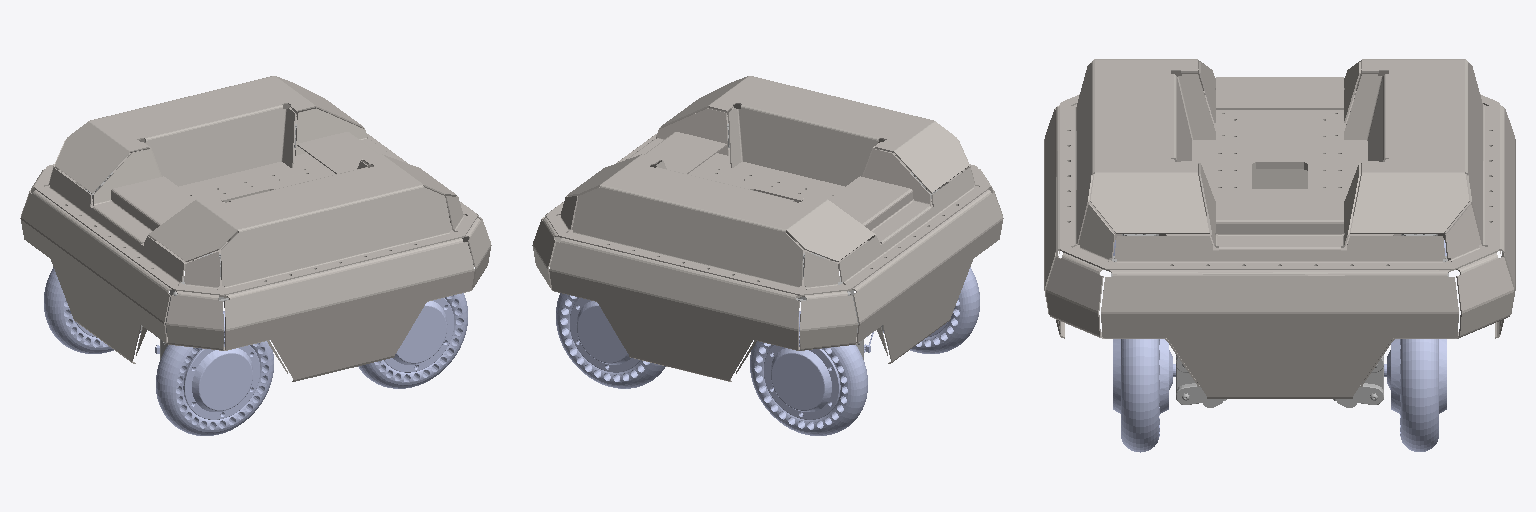
URDF robot description (chassis):
<?xml version="1.0" encoding="utf-8"?>
<!-- This URDF was automatically created by SolidWorks to URDF Exporter! Originally created by Stephen Brawner (brawner@gmail.com) 
     Commit Version: 1.6.0-4-g7f85cfe  Build Version: 1.6.7995.38578
     For more information, please see http://wiki.ros.org/sw_urdf_exporter -->
<!-- Updated for ROS 2 compatibility -->
<robot
  name="chassis">
  <link
    name="base_link">
    <inertial>
      <origin
        xyz="2.17423649959731E-06 3.49956307181624E-07 0.00559120283693081"
        rpy="0 0 0" />
      <mass
        value="29.6003381325808" />
      <inertia
        ixx="0.898685064148105"
        ixy="-1.56543470288466E-06"
        ixz="-2.89106718419985E-06"
        iyy="0.784208053023207"
        iyz="-4.68515980699763E-07"
        izz="1.64424540756128" />
    </inertial>
    <visual>
      <origin
        xyz="0 0 0"
        rpy="0 0 0" />
      <geometry>
        <mesh
          filename="package://chassis/meshes/base_link.STL" />
      </geometry>
      <material
        name="">
        <color
          rgba="0.776470588235294 0.756862745098039 0.737254901960784 1" />
      </material>
    </visual>
    <collision>
      <origin
        xyz="0 0 0"
        rpy="0 0 0" />
      <geometry>
        <mesh
          filename="package://chassis/meshes/base_link.STL" />
      </geometry>
    </collision>
  </link>
  <link
    name="right_front_steer_link">
    <inertial>
      <origin
        xyz="-1.1873E-05 0.050353 -0.050638"
        rpy="0 0 0" />
      <mass
        value="2.2993" />
      <inertia
        ixx="0.0039526"
        ixy="-9.0106E-09"
        ixz="1.0608E-07"
        iyy="0.0033072"
        iyz="0.0011272"
        izz="0.0020942" />
    </inertial>
    <visual>
      <origin
        xyz="0 0 0"
        rpy="0 0 0" />
      <geometry>
        <mesh
          filename="package://chassis/meshes/right_front_steer_link.STL" />
      </geometry>
      <material
        name="">
        <color
          rgba="0.75294 0.75294 0.75294 1" />
      </material>
    </visual>
    <collision>
      <origin
        xyz="0 0 0"
        rpy="0 0 0" />
      <geometry>
        <mesh
          filename="package://chassis/meshes/right_front_steer_link.STL" />
      </geometry>
    </collision>
  </link>
  <joint
    name="right_front_steer"
    type="continuous">
    <origin
      xyz="0.175 -0.175 -0.05"
      rpy="0 0 0" />
    <parent
      link="base_link" />
    <child
      link="right_front_steer_link" />
    <axis
      xyz="0 0 -1" />
    <limit
      lower="-3.14"
      upper="3.14"
      effort="100"
      velocity="0.1" />
    <dynamics
      damping="0.1"
      friction="1" />
    <safety_controller
      soft_upper_limit="3.14"
      soft_lower_limit="-3.14"
      k_position="1"
      k_velocity="1" />
  </joint>
  <link
    name="right_front_wheel_link">
    <inertial>
      <origin
        xyz="-3.3487E-07 0.00092793 1.78E-05"
        rpy="0 0 0" />
      <mass
        value="1.3917" />
      <inertia
        ixx="0.0032357"
        ixy="-5.8567E-09"
        ixz="-6.0045E-09"
        iyy="0.0061157"
        iyz="5.6708E-08"
        izz="0.0032355" />
    </inertial>
    <visual>
      <origin
        xyz="0 0 0"
        rpy="0 0 0" />
      <geometry>
        <mesh
          filename="package://chassis/meshes/right_front_wheel_link.STL" />
      </geometry>
      <material
        name="">
        <color
          rgba="0.79216 0.81961 0.93333 1" />
      </material>
    </visual>
    <collision>
      <origin
        xyz="0 0 0"
        rpy="0 0 0" />
      <geometry>
        <mesh
          filename="package://chassis/meshes/right_front_wheel_link.STL" />
      </geometry>
    </collision>
  </link>
  <joint
    name="right_front_wheel"
    type="continuous">
    <origin
      xyz="0 0 -0.1225"
      rpy="0 0 0" />
    <parent
      link="right_front_steer_link" />
    <child
      link="right_front_wheel_link" />
    <axis
      xyz="0 1 0" />
    <limit
      lower="-3.14"
      upper="3.14"
      effort="100"
      velocity="0.1" />
    <dynamics
      damping="0.1"
      friction="1" />
    <safety_controller
      soft_upper_limit="3.14"
      soft_lower_limit="-3.14"
      k_position="1"
      k_velocity="1" />
  </joint>
  <link
    name="left_front_steer_link">
    <inertial>
      <origin
        xyz="1.1873E-05 -0.050353 -0.065638"
        rpy="0 0 0" />
      <mass
        value="2.2993" />
      <inertia
        ixx="0.0039526"
        ixy="-9.0106E-09"
        ixz="-1.0608E-07"
        iyy="0.0033072"
        iyz="-0.0011272"
        izz="0.0020942" />
    </inertial>
    <visual>
      <origin
        xyz="0 0 0"
        rpy="0 0 0" />
      <geometry>
        <mesh
          filename="package://chassis/meshes/left_front_steer_link.STL" />
      </geometry>
      <material
        name="">
        <color
          rgba="0.75294 0.75294 0.75294 1" />
      </material>
    </visual>
    <collision>
      <origin
        xyz="0 0 0"
        rpy="0 0 0" />
      <geometry>
        <mesh
          filename="package://chassis/meshes/left_front_steer_link.STL" />
      </geometry>
    </collision>
  </link>
  <joint
    name="left_front_steer"
    type="continuous">
    <origin
      xyz="0.175 0.175 -0.035"
      rpy="0 0 0" />
    <parent
      link="base_link" />
    <child
      link="left_front_steer_link" />
    <axis
      xyz="0 0 -1" />
    <limit
      lower="-3.14"
      upper="3.14"
      effort="100"
      velocity="0.1" />
    <dynamics
      damping="0.1"
      friction="1" />
    <safety_controller
      soft_upper_limit="3.14"
      soft_lower_limit="-3.14"
      k_position="1"
      k_velocity="1" />
  </joint>
  <link
    name="left_front_wheel_link">
    <inertial>
      <origin
        xyz="-3.34870328078107E-07 -0.000927930709167551 -0.0150177998139255"
        rpy="0 0 0" />
      <mass
        value="1.39166913646861" />
      <inertia
        ixx="0.00323569332202727"
        ixy="5.85669910111863E-09"
        ixz="6.00449778845646E-09"
        iyy="0.00611570302439275"
        iyz="5.67079360643792E-08"
        izz="0.00323545332599927" />
    </inertial>
    <visual>
      <origin
        xyz="0 0 0"
        rpy="0 0 0" />
      <geometry>
        <mesh
          filename="package://chassis/meshes/left_front_wheel_link.STL" />
      </geometry>
      <material
        name="">
        <color
          rgba="0.792156862745098 0.819607843137255 0.933333333333333 1" />
      </material>
    </visual>
    <collision>
      <origin
        xyz="0 0 0"
        rpy="0 0 0" />
      <geometry>
        <mesh
          filename="package://chassis/meshes/left_front_wheel_link.STL" />
      </geometry>
    </collision>
  </link>
  <joint
    name="left_front_wheel"
    type="continuous">
    <origin
      xyz="0 0 -0.1225"
      rpy="0 0 0" />
    <parent
      link="left_front_steer_link" />
    <child
      link="left_front_wheel_link" />
    <axis
      xyz="0 -1 0" />
    <limit
      lower="-3.14"
      upper="3.14"
      effort="100"
      velocity="0.1" />
    <dynamics
      damping="0.1"
      friction="1" />
    <safety_controller
      soft_upper_limit="3.14"
      soft_lower_limit="-3.14"
      k_position="1"
      k_velocity="1" />
  </joint>
  <link
    name="right_rear_steer_link">
    <inertial>
      <origin
        xyz="-1.1873E-05 0.050353 -0.065638"
        rpy="0 0 0" />
      <mass
        value="2.2993" />
      <inertia
        ixx="0.0039526"
        ixy="-9.0106E-09"
        ixz="1.0608E-07"
        iyy="0.0033072"
        iyz="0.0011272"
        izz="0.0020942" />
    </inertial>
    <visual>
      <origin
        xyz="0 0 0"
        rpy="0 0 0" />
      <geometry>
        <mesh
          filename="package://chassis/meshes/right_rear_steer_link.STL" />
      </geometry>
      <material
        name="">
        <color
          rgba="0.75294 0.75294 0.75294 1" />
      </material>
    </visual>
    <collision>
      <origin
        xyz="0 0 0"
        rpy="0 0 0" />
      <geometry>
        <mesh
          filename="package://chassis/meshes/right_rear_steer_link.STL" />
      </geometry>
    </collision>
  </link>
  <joint
    name="right_rear_steer"
    type="continuous">
    <origin
      xyz="-0.175 -0.175 -0.035"
      rpy="0 0 0" />
    <parent
      link="base_link" />
    <child
      link="right_rear_steer_link" />
    <axis
      xyz="0 0 -1" />
    <limit
      lower="-3.14"
      upper="3.14"
      effort="100"
      velocity="0.1" />
    <dynamics
      damping="0.1"
      friction="1" />
    <safety_controller
      soft_upper_limit="3.14"
      soft_lower_limit="-3.14"
      k_position="1"
      k_velocity="1" />
  </joint>
  <link
    name="right_rear_wheel_link">
    <inertial>
      <origin
        xyz="3.34870328161374E-07 0.00092793070916794 -0.0150177998139254"
        rpy="0 0 0" />
      <mass
        value="1.39166913646861" />
      <inertia
        ixx="0.00323569332202727"
        ixy="5.85669910109146E-09"
        ixz="-6.00449778845156E-09"
        iyy="0.00611570302439275"
        iyz="-5.67079360040527E-08"
        izz="0.00323545332599927" />
    </inertial>
    <visual>
      <origin
        xyz="0 0 0"
        rpy="0 0 0" />
      <geometry>
        <mesh
          filename="package://chassis/meshes/right_rear_wheel_link.STL" />
      </geometry>
      <material
        name="">
        <color
          rgba="0.792156862745098 0.819607843137255 0.933333333333333 1" />
      </material>
    </visual>
    <collision>
      <origin
        xyz="0 0 0"
        rpy="0 0 0" />
      <geometry>
        <mesh
          filename="package://chassis/meshes/right_rear_wheel_link.STL" />
      </geometry>
    </collision>
  </link>
  <joint
    name="right_rear_wheel"
    type="continuous">
    <origin
      xyz="0 0 -0.1225"
      rpy="0 0 0" />
    <parent
      link="right_rear_steer_link" />
    <child
      link="right_rear_wheel_link" />
    <axis
      xyz="0 1 0" />
    <limit
      lower="-3.14"
      upper="3.14"
      effort="100"
      velocity="0.1" />
    <dynamics
      damping="0.1"
      friction="1" />
    <safety_controller
      soft_upper_limit="3.14"
      soft_lower_limit="-3.14"
      k_position="1"
      k_velocity="1" />
  </joint>
  <link
    name="left_rear_steer_link">
    <inertial>
      <origin
        xyz="1.1873E-05 -0.050353 -0.065638"
        rpy="0 0 0" />
      <mass
        value="2.2993" />
      <inertia
        ixx="0.0039526"
        ixy="-9.0106E-09"
        ixz="-1.0608E-07"
        iyy="0.0033072"
        iyz="-0.0011272"
        izz="0.0020942" />
    </inertial>
    <visual>
      <origin
        xyz="0 0 0"
        rpy="0 0 0" />
      <geometry>
        <mesh
          filename="package://chassis/meshes/left_rear_steer_link.STL" />
      </geometry>
      <material
        name="">
        <color
          rgba="0.75294 0.75294 0.75294 1" />
      </material>
    </visual>
    <collision>
      <origin
        xyz="0 0 0"
        rpy="0 0 0" />
      <geometry>
        <mesh
          filename="package://chassis/meshes/left_rear_steer_link.STL" />
      </geometry>
    </collision>
  </link>
  <joint
    name="left_rear_steer"
    type="continuous">
    <origin
      xyz="-0.175 0.175 -0.035"
      rpy="0 0 0" />
    <parent
      link="base_link" />
    <child
      link="left_rear_steer_link" />
    <axis
      xyz="0 0 -1" />
    <limit
      lower="-3.14"
      upper="3.14"
      effort="100"
      velocity="0.1" />
    <dynamics
      damping="0.1"
      friction="1" />
    <safety_controller
      soft_upper_limit="3.14"
      soft_lower_limit="-3.14"
      k_position="1"
      k_velocity="1" />
  </joint>
  <link
    name="left_rear_wheel_link">
    <inertial>
      <origin
        xyz="3.3487E-07 -0.00092793 -0.014982"
        rpy="0 0 0" />
      <mass
        value="1.3917" />
      <inertia
        ixx="0.0032357"
        ixy="-5.8567E-09"
        ixz="6.0045E-09"
        iyy="0.0061157"
        iyz="-5.6708E-08"
        izz="0.0032355" />
    </inertial>
    <visual>
      <origin
        xyz="0 0 0"
        rpy="0 0 0" />
      <geometry>
        <mesh
          filename="package://chassis/meshes/left_rear_wheel_link.STL" />
      </geometry>
      <material
        name="">
        <color
          rgba="0.79216 0.81961 0.93333 1" />
      </material>
    </visual>
    <collision>
      <origin
        xyz="0 0 0"
        rpy="0 0 0" />
      <geometry>
        <mesh
          filename="package://chassis/meshes/left_rear_wheel_link.STL" />
      </geometry>
    </collision>
  </link>
  <joint
    name="left_rear_wheel"
    type="continuous">
    <origin
      xyz="0 0 -0.1225"
      rpy="0 0 0" />
    <parent
      link="left_rear_steer_link" />
    <child
      link="left_rear_wheel_link" />
    <axis
      xyz="0 -1 0" />
    <limit
      lower="-3.14"
      upper="3.14"
      effort="100"
      velocity="0.1" />
    <dynamics
      damping="0.1"
      friction="1" />
    <safety_controller
      soft_upper_limit="3.14"
      soft_lower_limit="-3.14"
      k_position="1"
      k_velocity="1" />
  </joint>
</robot>

--- Facts derived from the render (not from the file) ---
3 views of the same robot in one strip: view 1: azimuth 30°, elevation 25°; view 2: azimuth 150°, elevation 25°; view 3: azimuth 270°, elevation 25° (orthographic).
Model chassis with 9 links and 8 joints (8 continuous), rooted at base_link, posed all joints at 0.
Visible links, largest first — view 1: base_link, right_rear_wheel_link, right_front_wheel_link, left_rear_wheel_link; view 2: base_link, left_rear_wheel_link, left_front_wheel_link, right_rear_wheel_link; view 3: base_link, right_front_wheel_link, left_front_wheel_link, right_front_steer_link, left_front_steer_link.
Link boxes in pixels (x1,y1,x2,y2): base_link: (20,76,491,381); right_rear_wheel_link: (155,311,273,435); right_front_wheel_link: (358,293,467,388); left_rear_wheel_link: (44,267,156,353); base_link: (532,76,1003,381); left_rear_wheel_link: (750,311,867,435); left_front_wheel_link: (556,293,665,388); right_rear_wheel_link: (864,267,979,353); base_link: (1044,59,1515,398); right_front_wheel_link: (1113,339,1175,452); left_front_wheel_link: (1384,339,1446,451); right_front_steer_link: (1111,234,1226,407); left_front_steer_link: (1333,234,1448,407).
Bounding box of the posed robot: 0.5895 × 0.5895 × 0.3724 m (x, y, z).
9 mesh visuals loaded from 9 distinct referenced files (9 binary STL).
